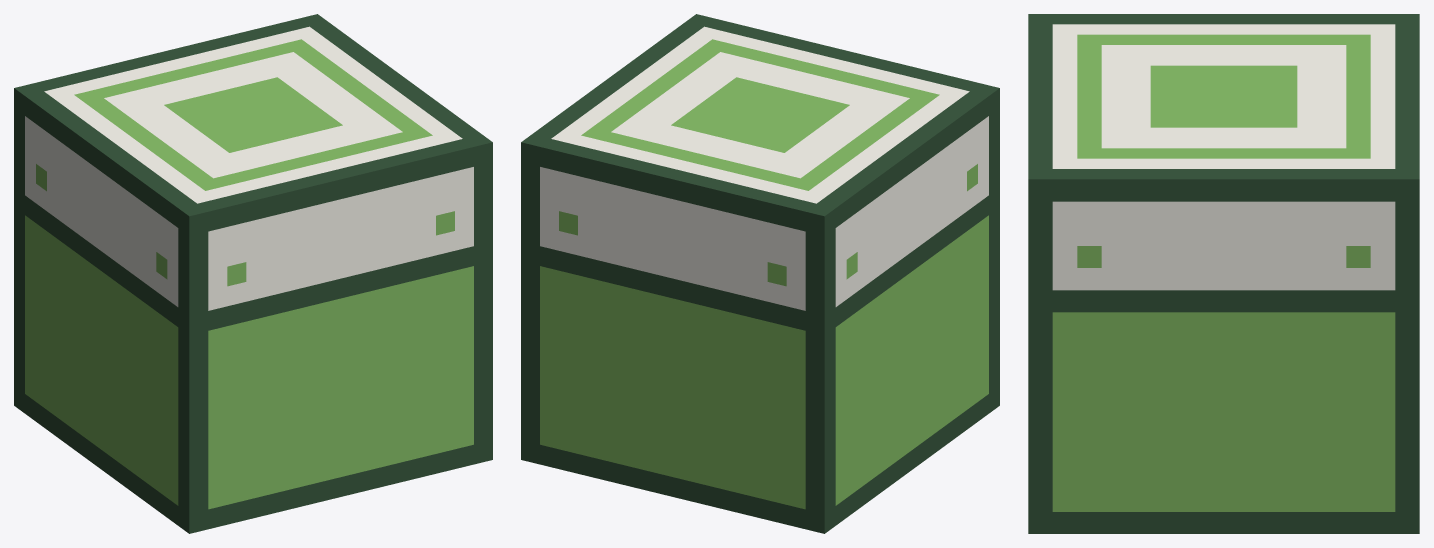
File: bin_tiles_V2.fbx
3 renders of one model, left to right at view 1: azimuth 30°, elevation 25°; view 2: azimuth 150°, elevation 25°; view 3: azimuth 270°, elevation 25°, orthographic. The views are drawn at different scales.
Visible parts, largest first — view 1: bin_tiles_V2; view 2: bin_tiles_V2; view 3: bin_tiles_V2.
Part boxes in pixels (x1,y1,x2,y2): bin_tiles_V2: [14, 14, 492, 533]; bin_tiles_V2: [521, 14, 999, 533]; bin_tiles_V2: [1028, 14, 1419, 533].
Bounding box in the file's own units: 1.6 × 1.6 × 1.6.
Materials: 1 (1 with a texture image).
